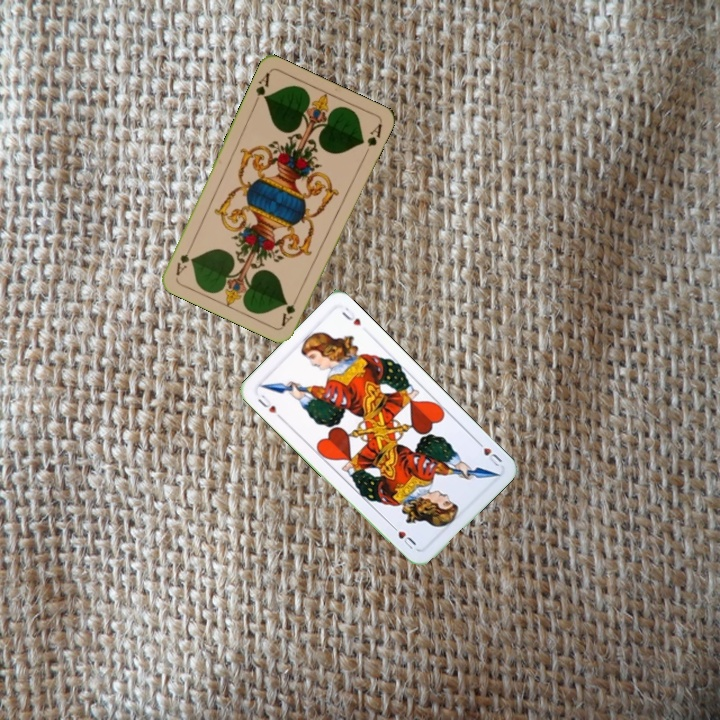GA: (277, 290, 302, 328), (250, 68, 272, 107)
HU: (472, 436, 505, 469), (253, 390, 285, 422)
